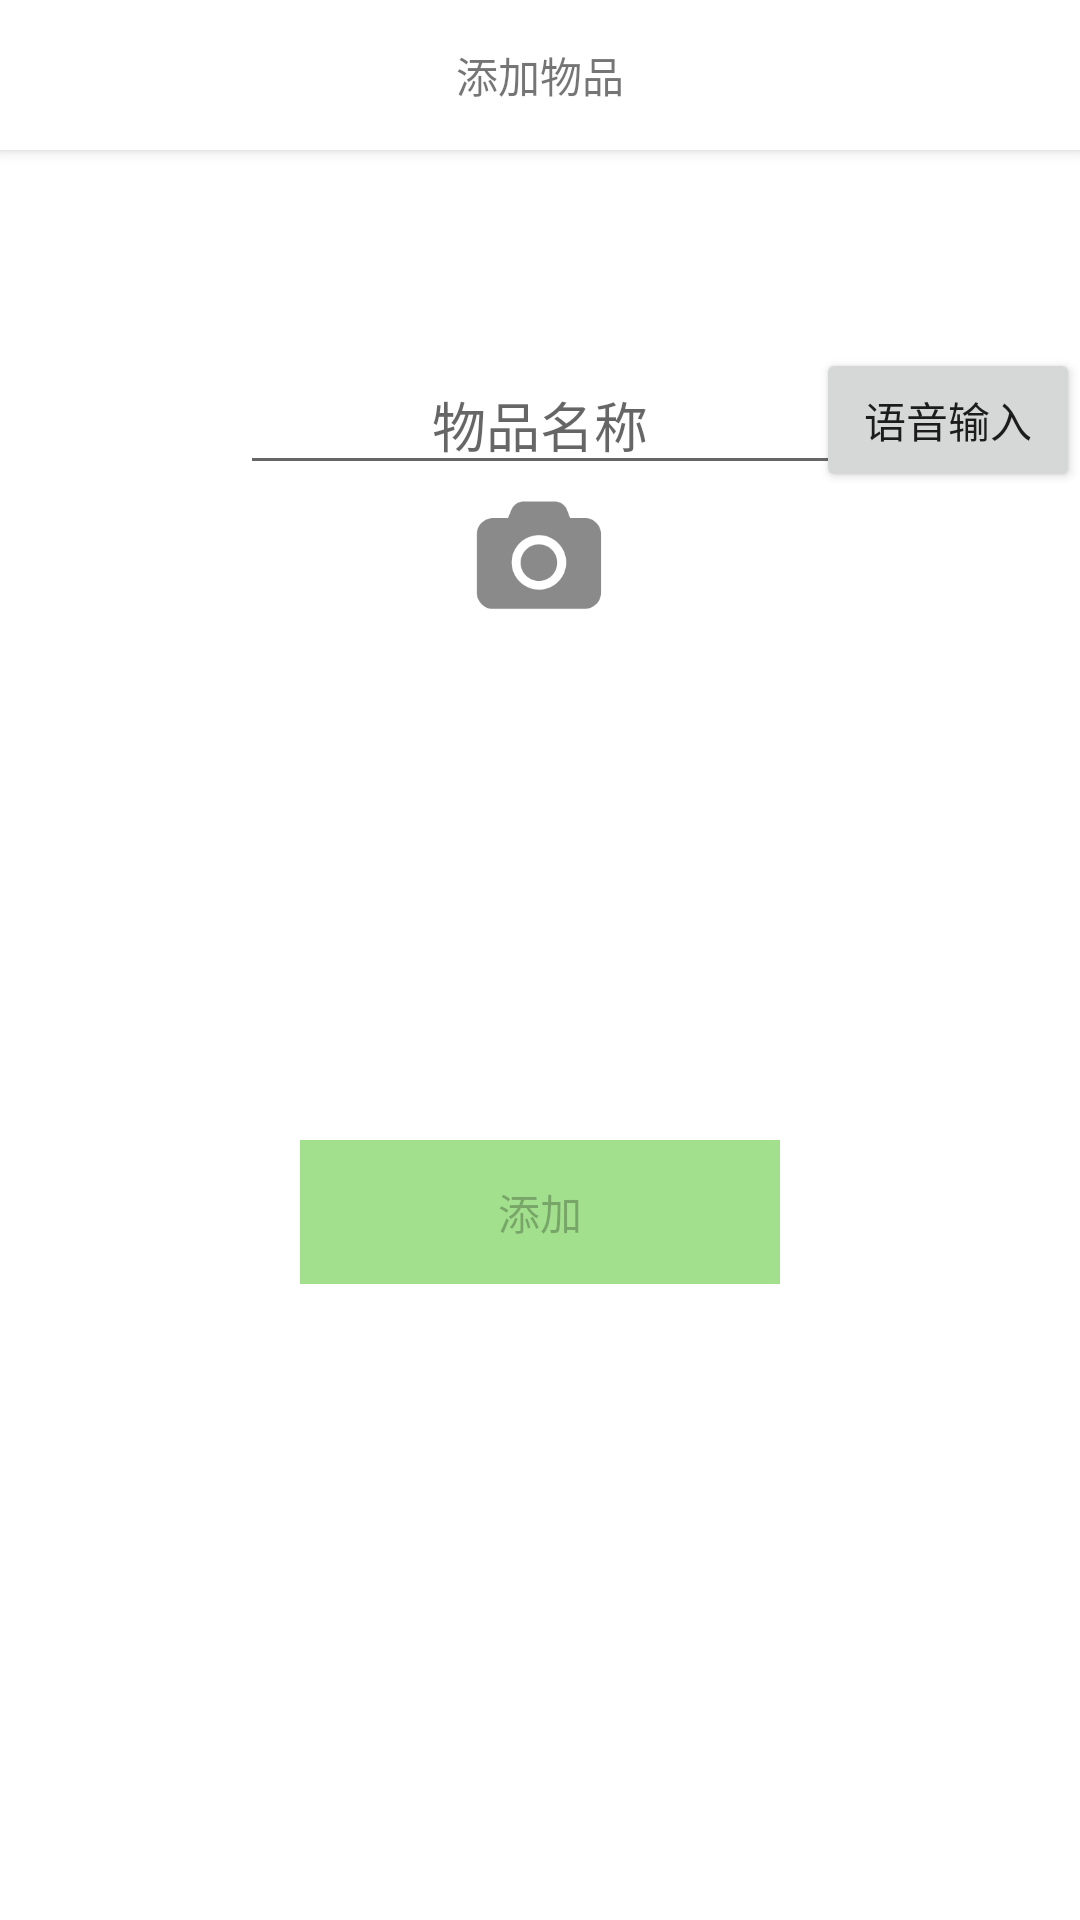

Icons on this 1080px×1920px Android screen, each with the point to tap as point (x, y):
camera: point (539, 555)
